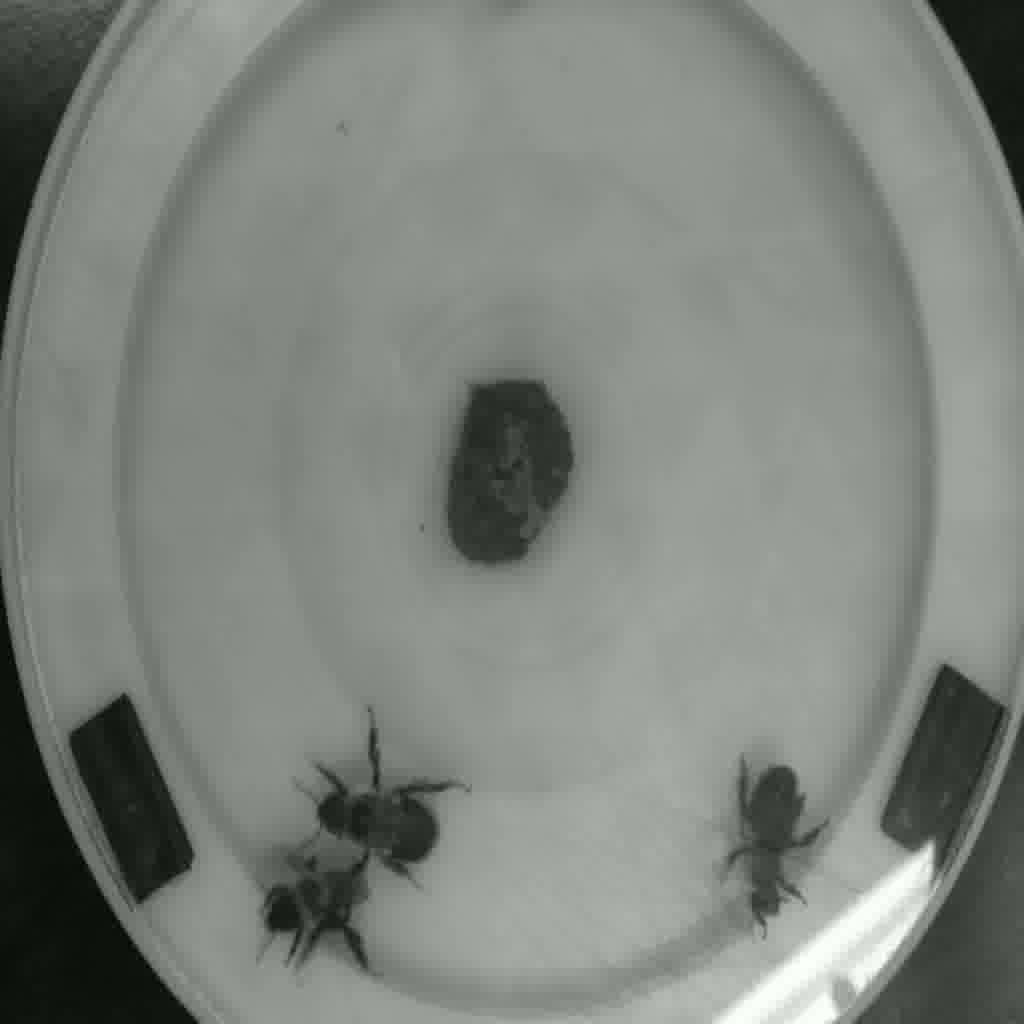bee: (724, 747, 830, 936), (253, 854, 398, 992), (327, 742, 449, 880)
